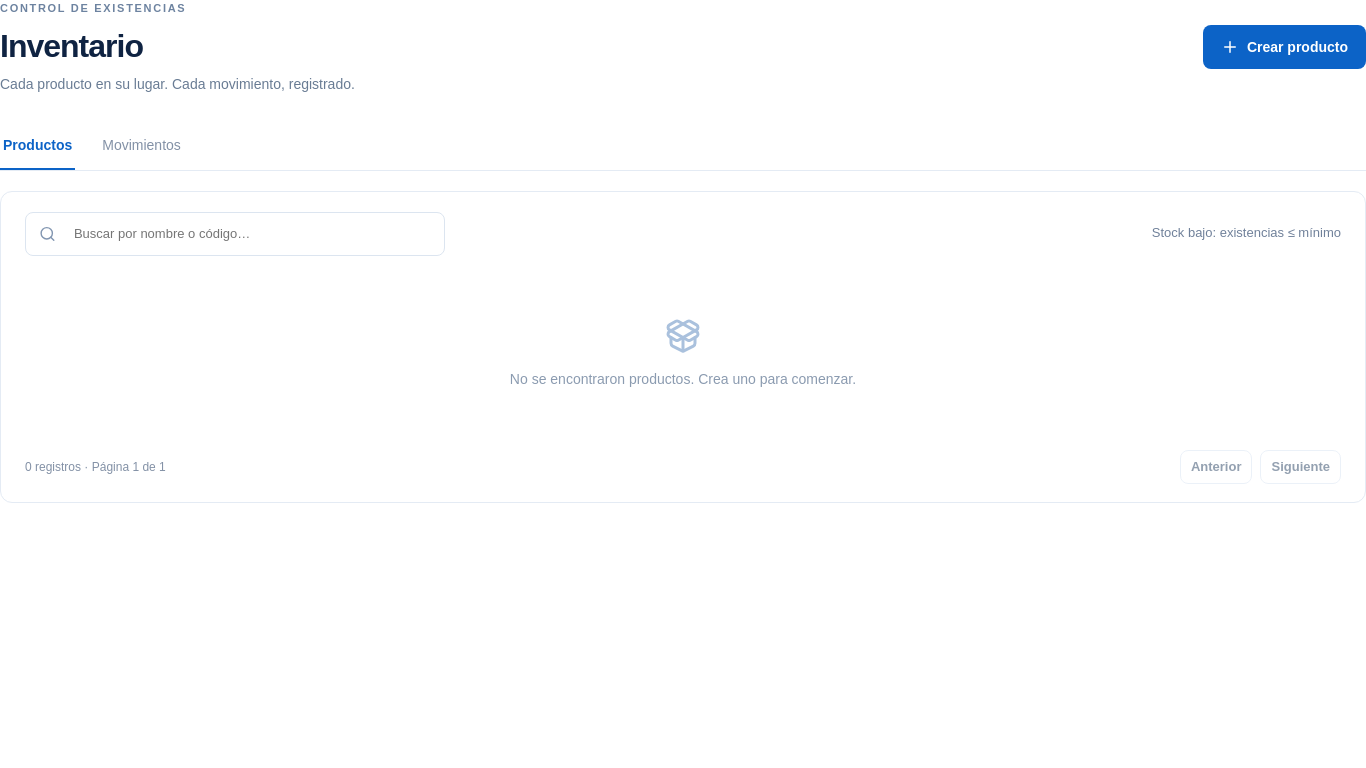
Scenario: Flujos de la interfaz › Inventario permite cantidad inicial al crear y cantidad disponible al modificar
Click the button "Crear producto" at (1284, 47), box [1203,25,1365,69]
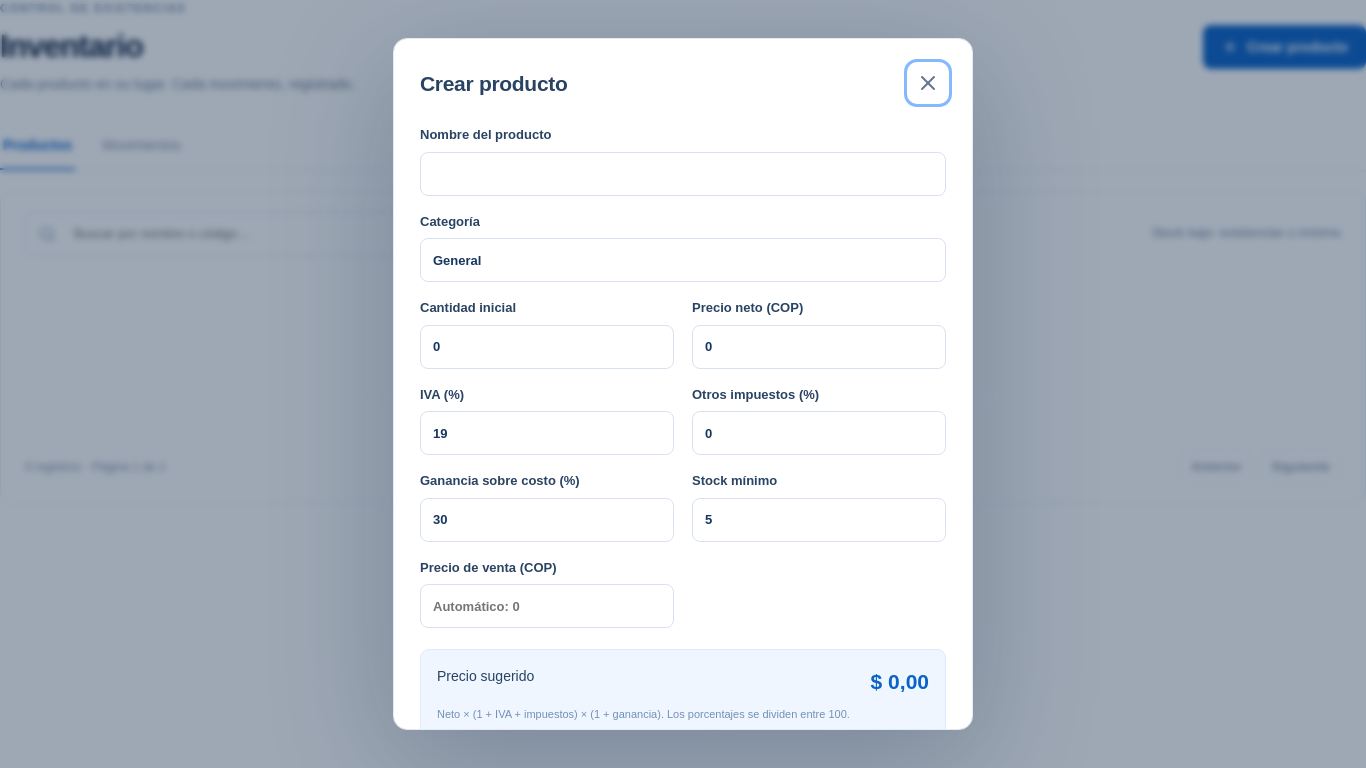
Type "Producto de inventario" into the field labelled "Nombre del producto" at (683, 174), box [420,152,946,196]
Replace the text in the number field labelled "Cantidad inicial" with "9" at (547, 347), box [420,325,674,369]
(page scrolled)
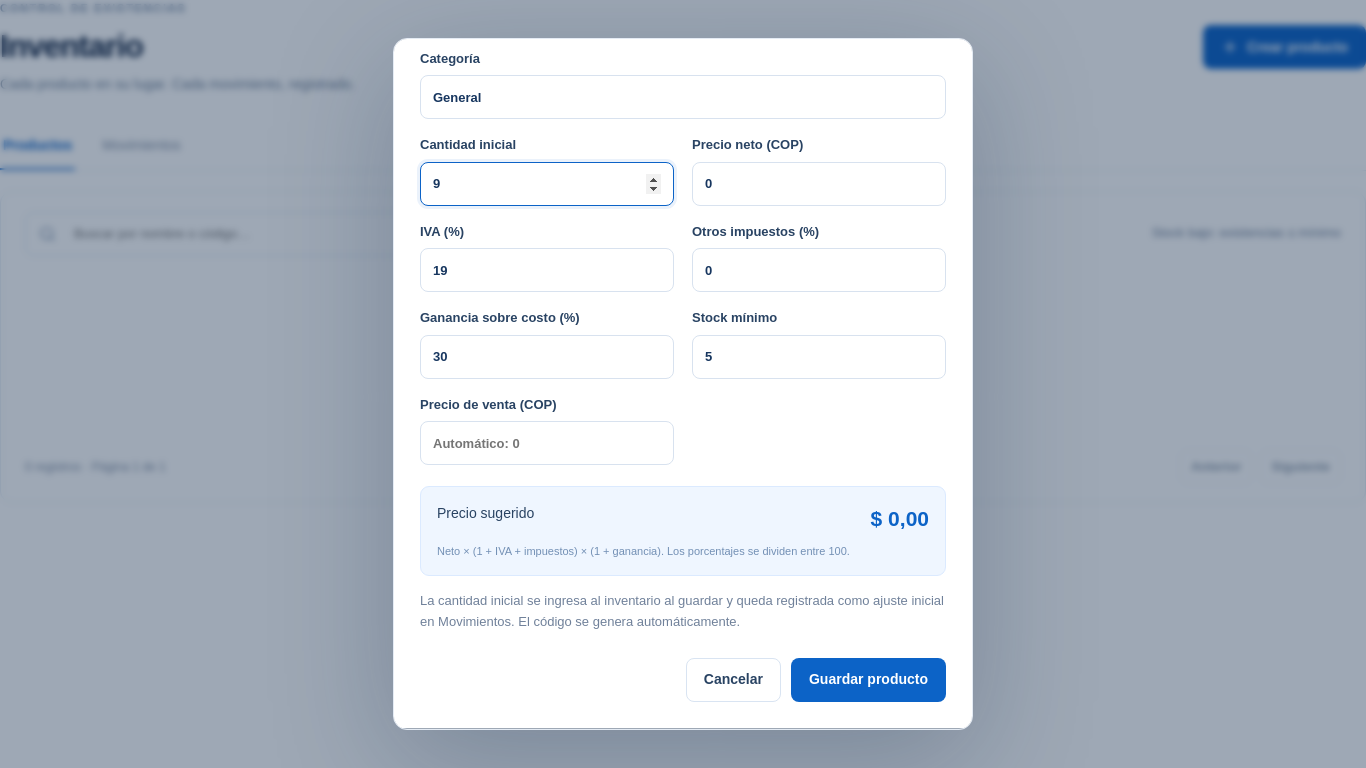
Click the button "Guardar producto" at (868, 680), box [791,658,946,702]
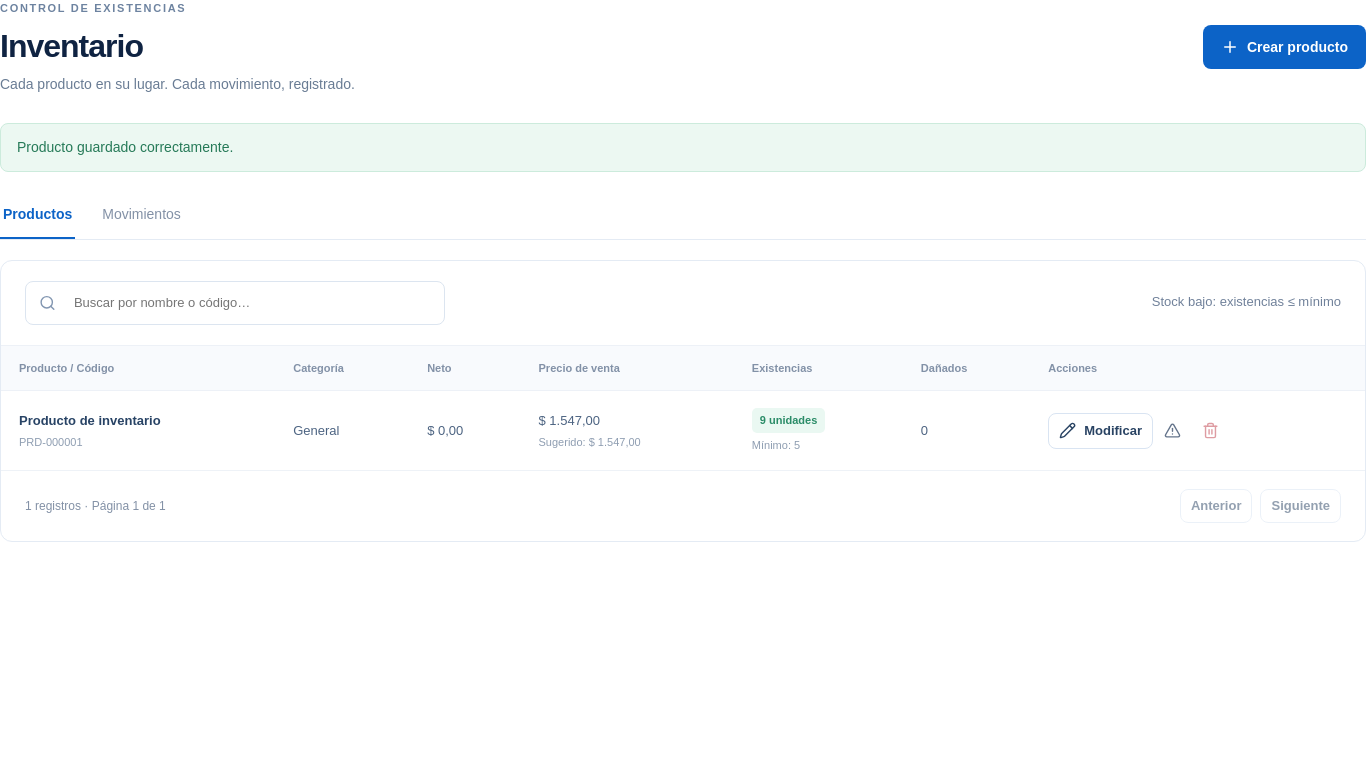
Click the button with aria-label "Modificar Producto de inventario" at (1101, 431), box [1048,413,1153,449]
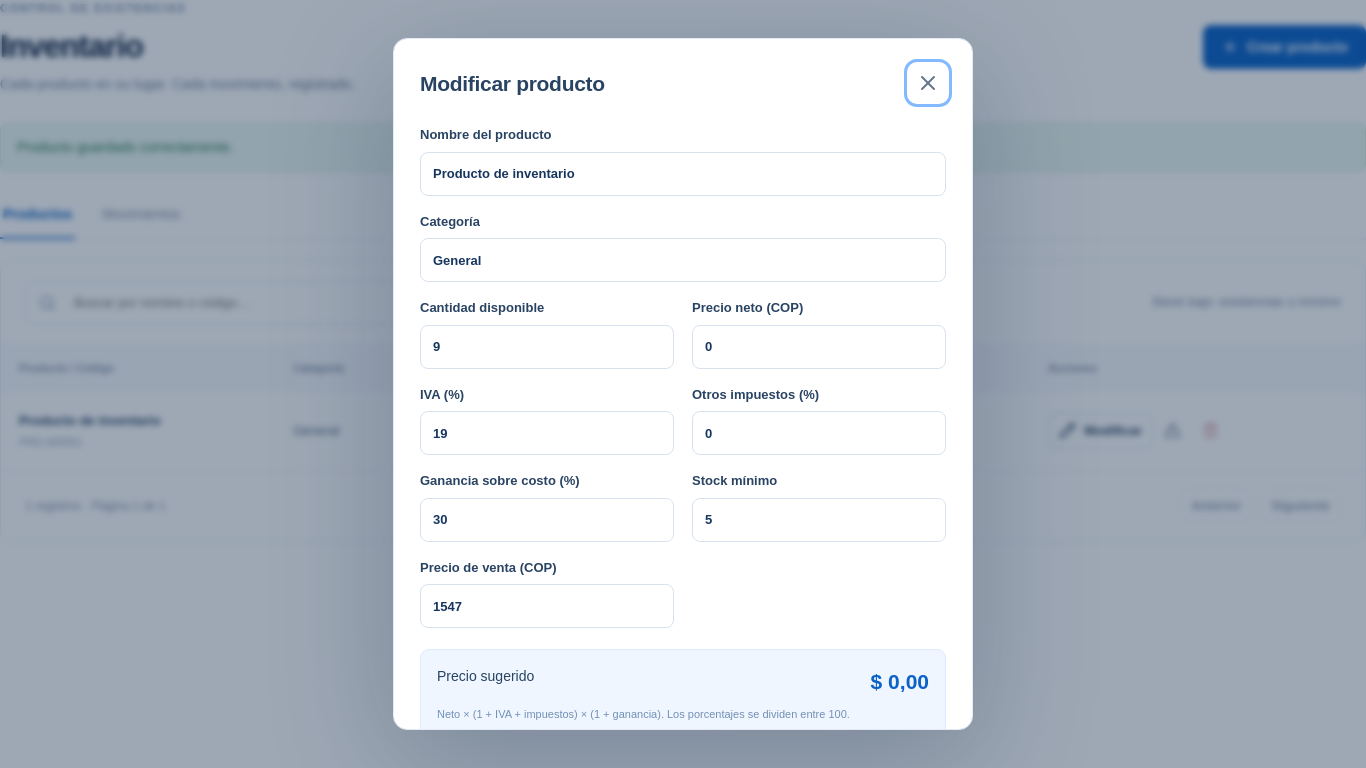
Result: the number field labelled "Cantidad disponible" holds "9"
Replace the text in the number field labelled "Cantidad disponible" with "11" at (547, 347), box [420,325,674,369]
(page scrolled)
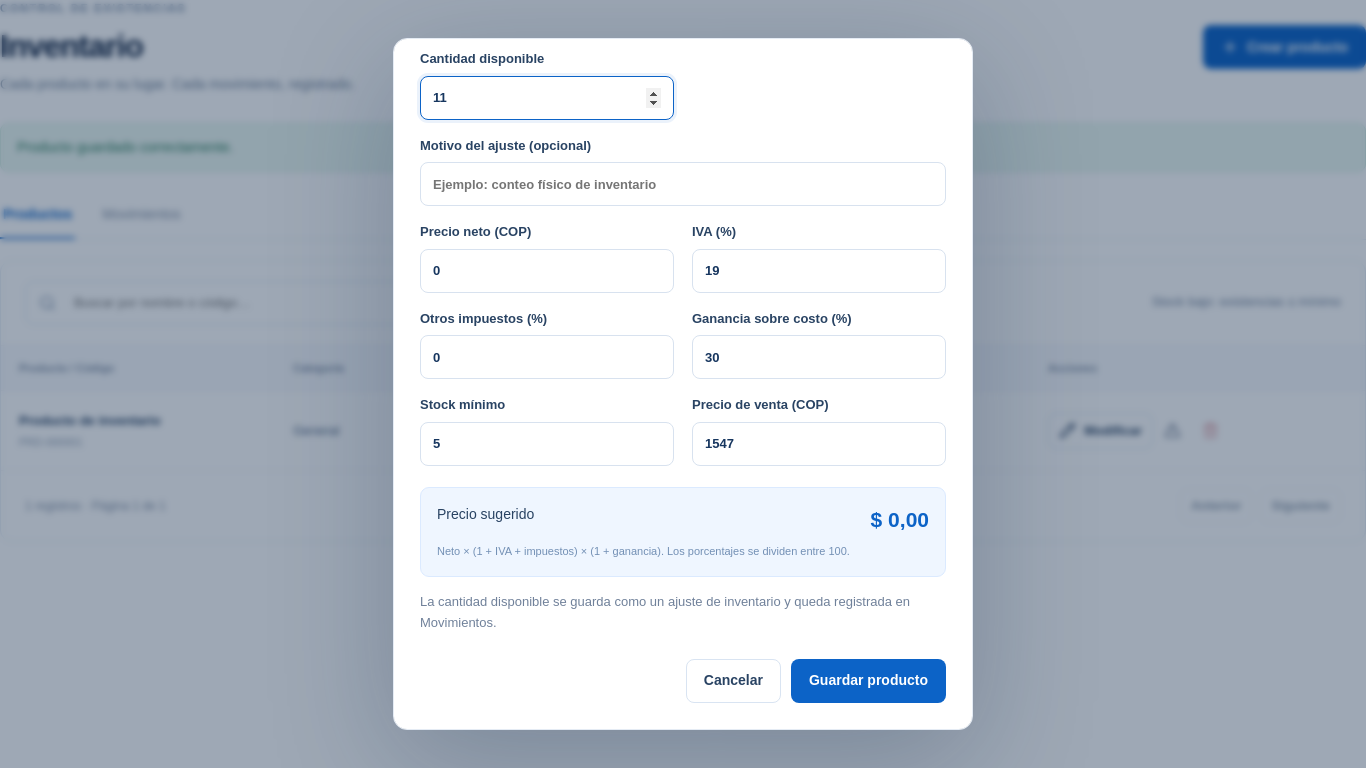
Click the button "Guardar producto" at (868, 680), box [791,658,946,702]
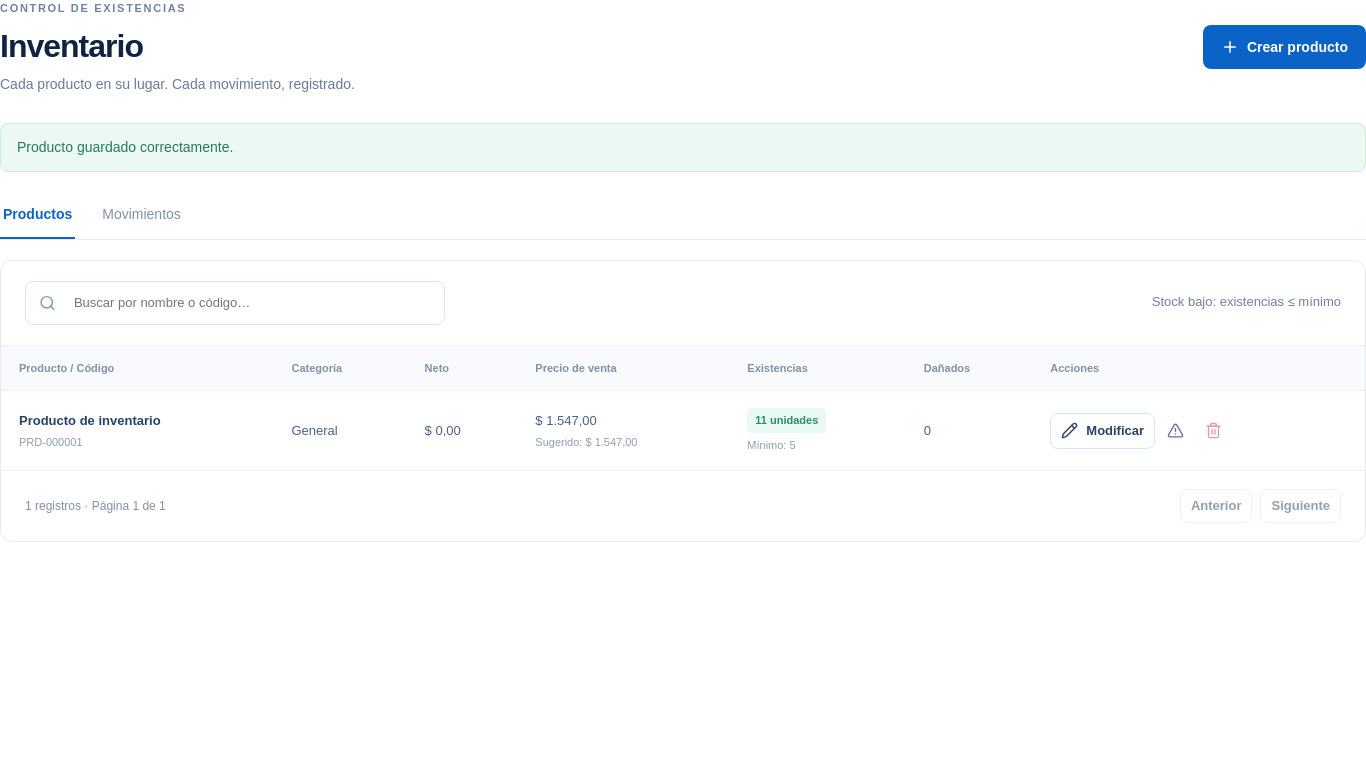
Result: the dialog is gone
Result: the text "11 unidades" is shown at [747,408,826,433]
